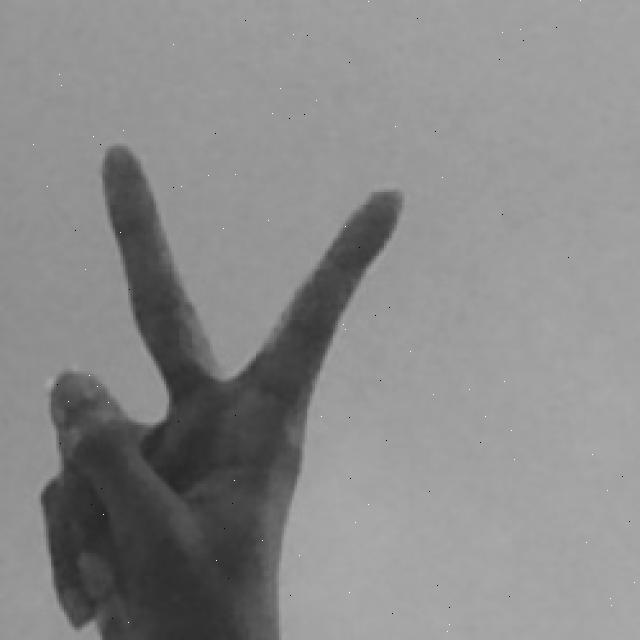V: (31, 138, 407, 640)
